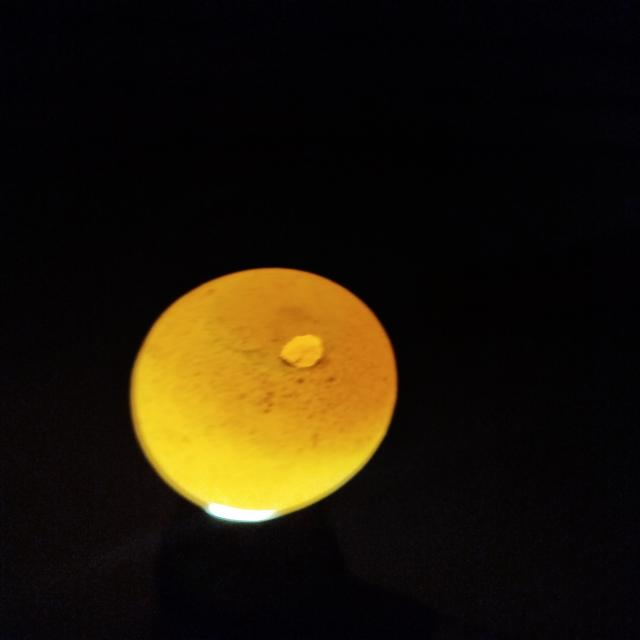Rachadura: (279, 334, 324, 368)
